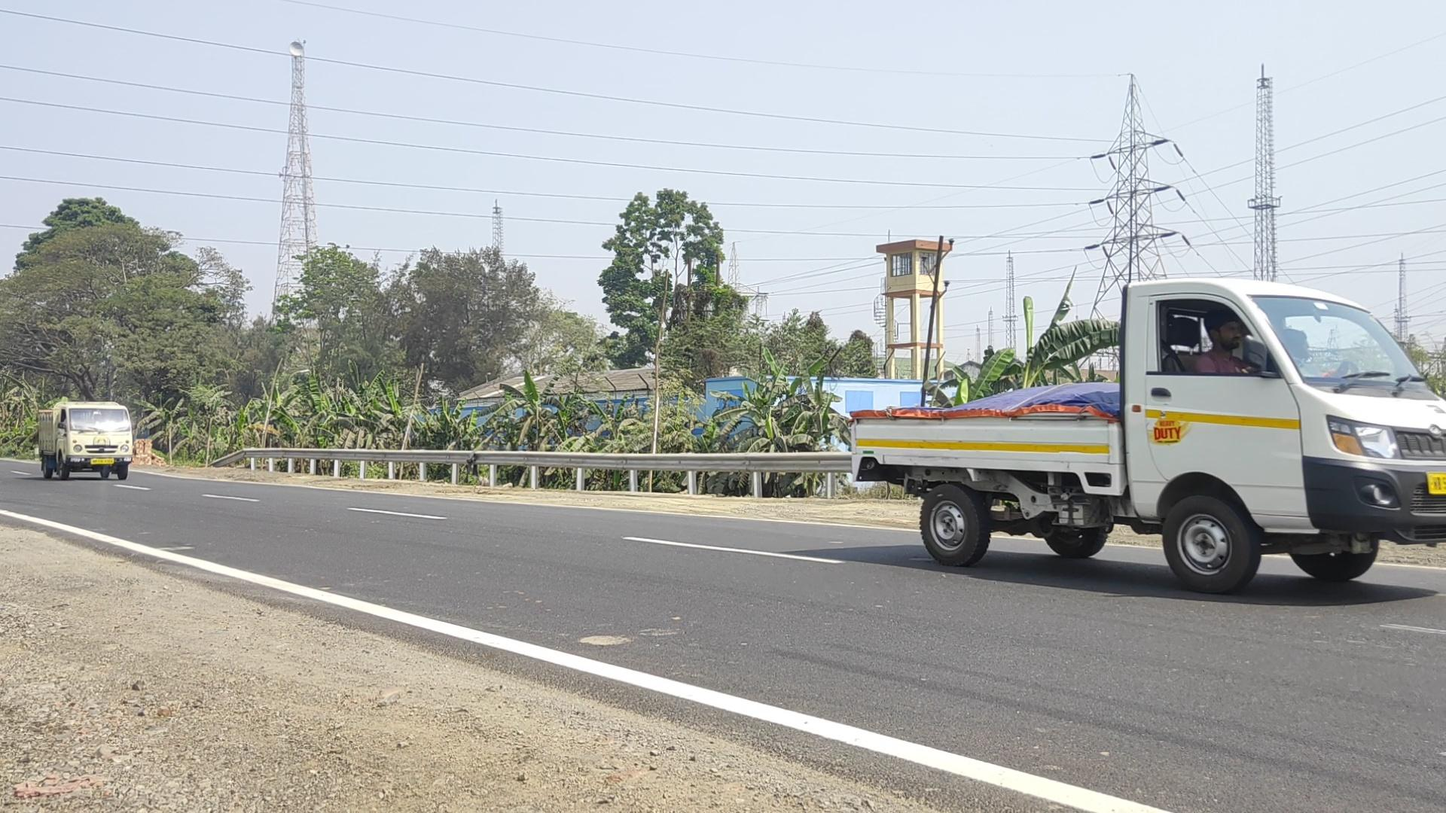van: (850, 275, 1446, 595), (37, 400, 137, 480)
